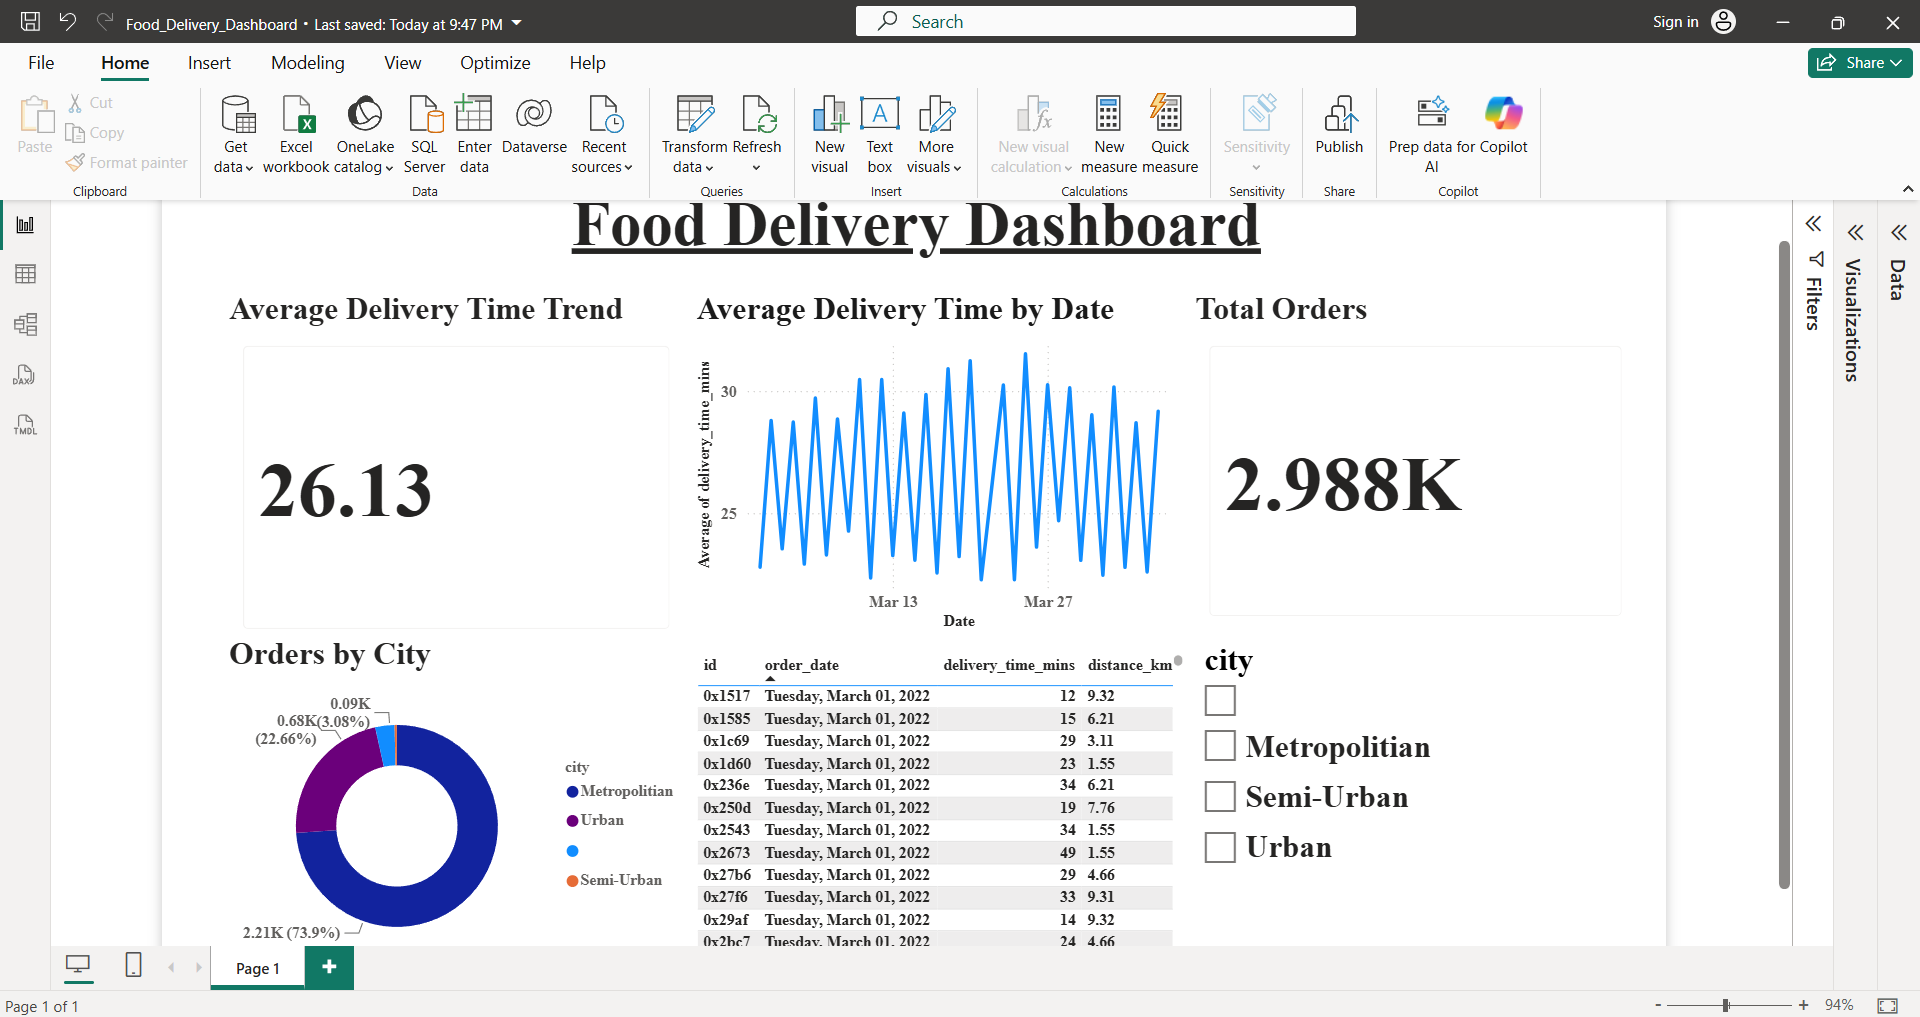

This screenshot's page, from the dashboard's own definition file:
{"tool":"powerbi","page":{"name":"Page 1","canvas":[1280,720],"ordinal":0},"visuals":[{"type":"tableEx","fields":{"Values":["food_delivery_cleaned.id","food_delivery_cleaned.order_date","food_delivery_cleaned.delivery_time_mins","food_delivery_cleaned.distance_km","food_delivery_cleaned.city"]},"box":[450.1,411.7,424,282.7],"z":0},{"type":"slicer","fields":{"Values":["food_delivery_cleaned.city"]},"box":[874.1,400.7,385.6,293.7],"z":1000},{"type":"lineChart","title":"Average Delivery Time by Date","fields":{"Category":["Calendar.Date"],"Y":["Avg(food_delivery_cleaned.delivery_time_mins)"]},"box":[450.1,107,424,293.7],"z":2000},{"type":"cardVisual","title":"Average Delivery Time Trend","fields":{"Data":["Avg(food_delivery_cleaned.delivery_time_mins)"]},"box":[52.1,107,397.9,304.6],"z":3000},{"type":"cardVisual","title":"Total Orders","fields":{"Data":["Count(food_delivery_cleaned.id)"]},"box":[874.1,107,385.6,293.7],"z":4000},{"type":"donutChart","title":"Orders by City","fields":{"Category":["food_delivery_cleaned.city"],"Y":["CountNonNull(food_delivery_cleaned.id)"]},"box":[52.1,400.7,397.9,293.7],"z":5000},{"type":"textbox","box":[24.7,15.1,1235,91.9],"z":6000}]}

Visuals, with their boxes on the page's 1280x720 design canvas (x1, y1, x2, y2). These are canvas units, not pixel positions in the 1920x1017 screenshot, which may show the page scaled, cropped or inside an application window:
tableEx - food_delivery_cleaned.id x food_delivery_cleaned.order_date: {"x1": 450, "y1": 412, "x2": 874, "y2": 694}
slicer - food_delivery_cleaned.city: {"x1": 874, "y1": 401, "x2": 1260, "y2": 694}
"Average Delivery Time by Date" lineChart: {"x1": 450, "y1": 107, "x2": 874, "y2": 401}
"Average Delivery Time Trend" cardVisual: {"x1": 52, "y1": 107, "x2": 450, "y2": 412}
"Total Orders" cardVisual: {"x1": 874, "y1": 107, "x2": 1260, "y2": 401}
"Orders by City" donutChart: {"x1": 52, "y1": 401, "x2": 450, "y2": 694}
textbox: {"x1": 25, "y1": 15, "x2": 1260, "y2": 107}
